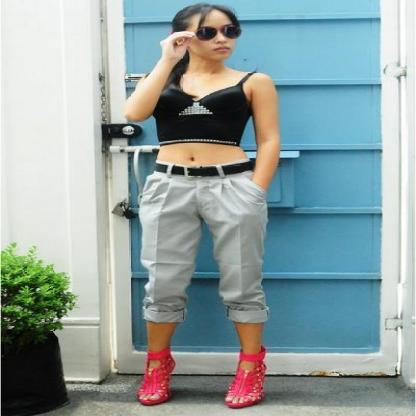pants: (138, 162, 279, 322)
shirt: (137, 75, 256, 145)
shoe: (138, 341, 266, 404)
sunglass: (212, 9, 241, 38)
